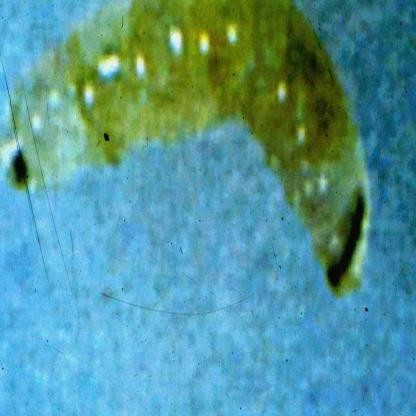whorl-maggot: (1, 2, 373, 308)
